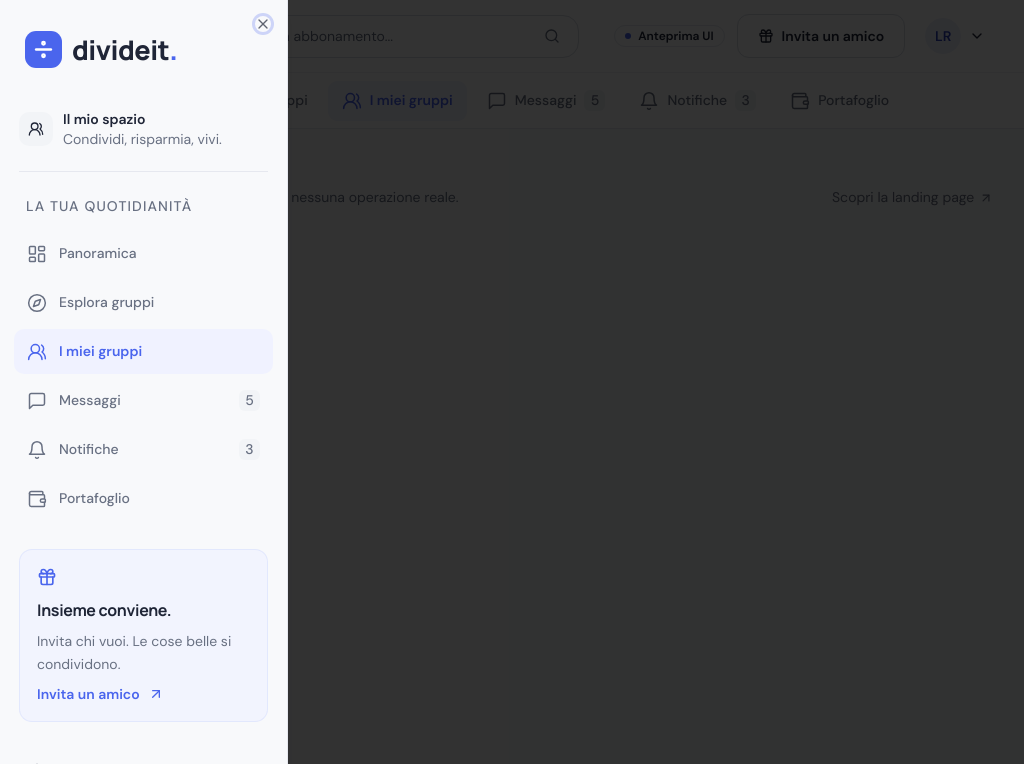
AppShell › preserves the mobile Sheet, bottom navigation and closing on route selection
The width and height of the screenshot is (1024, 764).
Earlier steps of the test are not shown.
Click the link "Esplora gruppi": click(91, 302) [27,292,154,312]
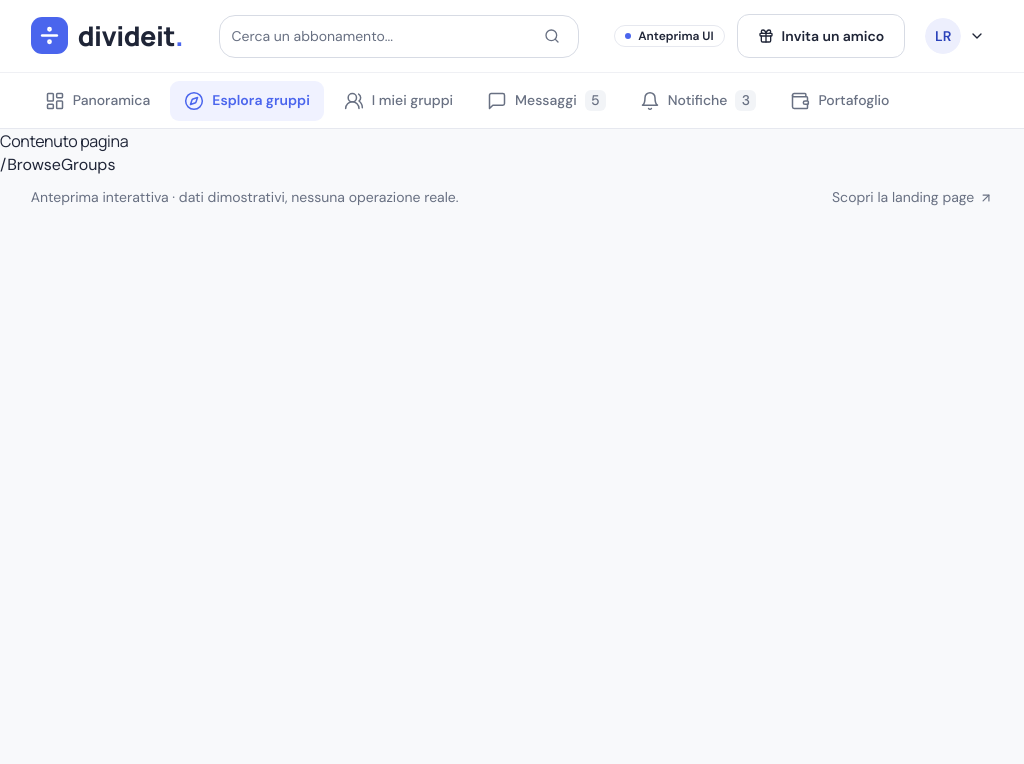
Expected: the text with test id "route" reads "/BrowseGroups", [0,154,115,175]
